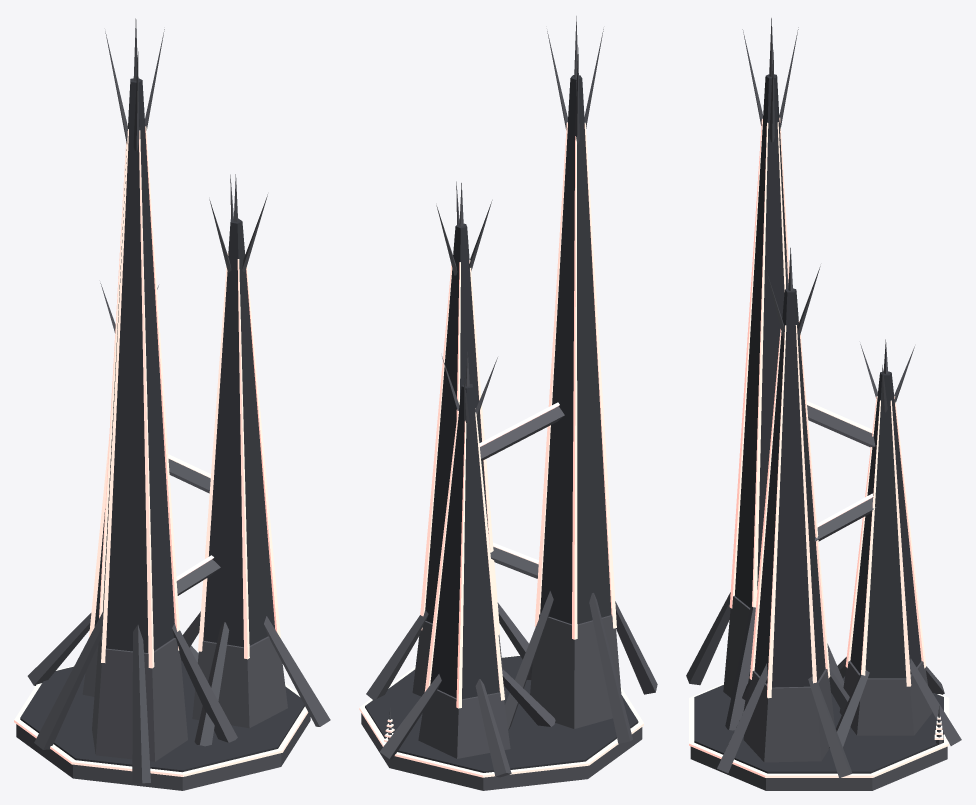
The model's file is zone_high_2_t5.glb.
3 renders of one model, left to right at view 1: azimuth 30°, elevation 25°; view 2: azimuth 150°, elevation 25°; view 3: azimuth 270°, elevation 25°, orthographic. The views are drawn at different scales.
Parts seen in each view (by area): view 1: zone_high_2_t5; view 2: zone_high_2_t5, detail; view 3: zone_high_2_t5, detail.
Boxes of the visible parts, x1,y1,x2,y2 form: zone_high_2_t5: (14, 18, 330, 790); zone_high_2_t5: (359, 16, 657, 790); detail: (384, 402, 559, 741); zone_high_2_t5: (686, 18, 961, 790); detail: (806, 401, 943, 744).
Size of the model in its own units: 29.23 by 80.96 by 28.97.
